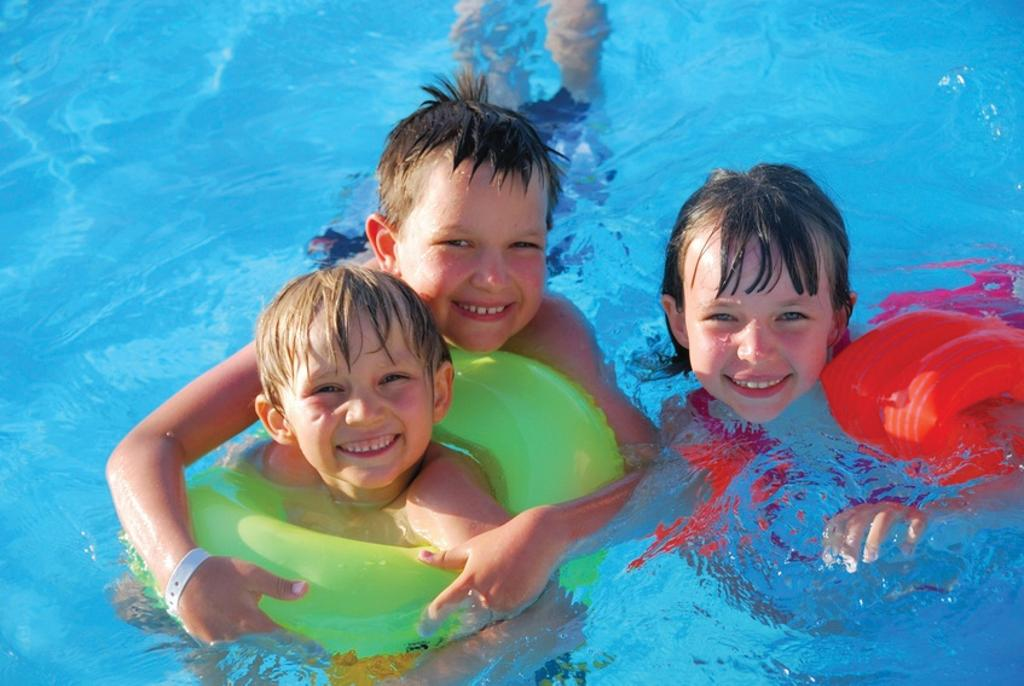face: (414, 160, 552, 352), (686, 252, 838, 420), (292, 326, 432, 492)
